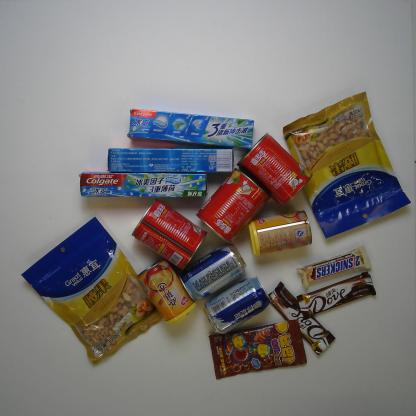Alcohol: (176, 240, 249, 303), (202, 274, 276, 336)
Candy: (205, 317, 310, 380)
Canned Food: (234, 130, 314, 209), (194, 165, 270, 248), (130, 198, 208, 271), (135, 257, 200, 326), (246, 208, 314, 257)
Chocolate: (266, 280, 338, 358), (294, 270, 378, 320), (293, 242, 372, 289)
Dried Fruit: (17, 213, 164, 368), (281, 90, 412, 240)
Personal Hygiene: (127, 106, 256, 154), (77, 169, 210, 201), (104, 145, 235, 176)
